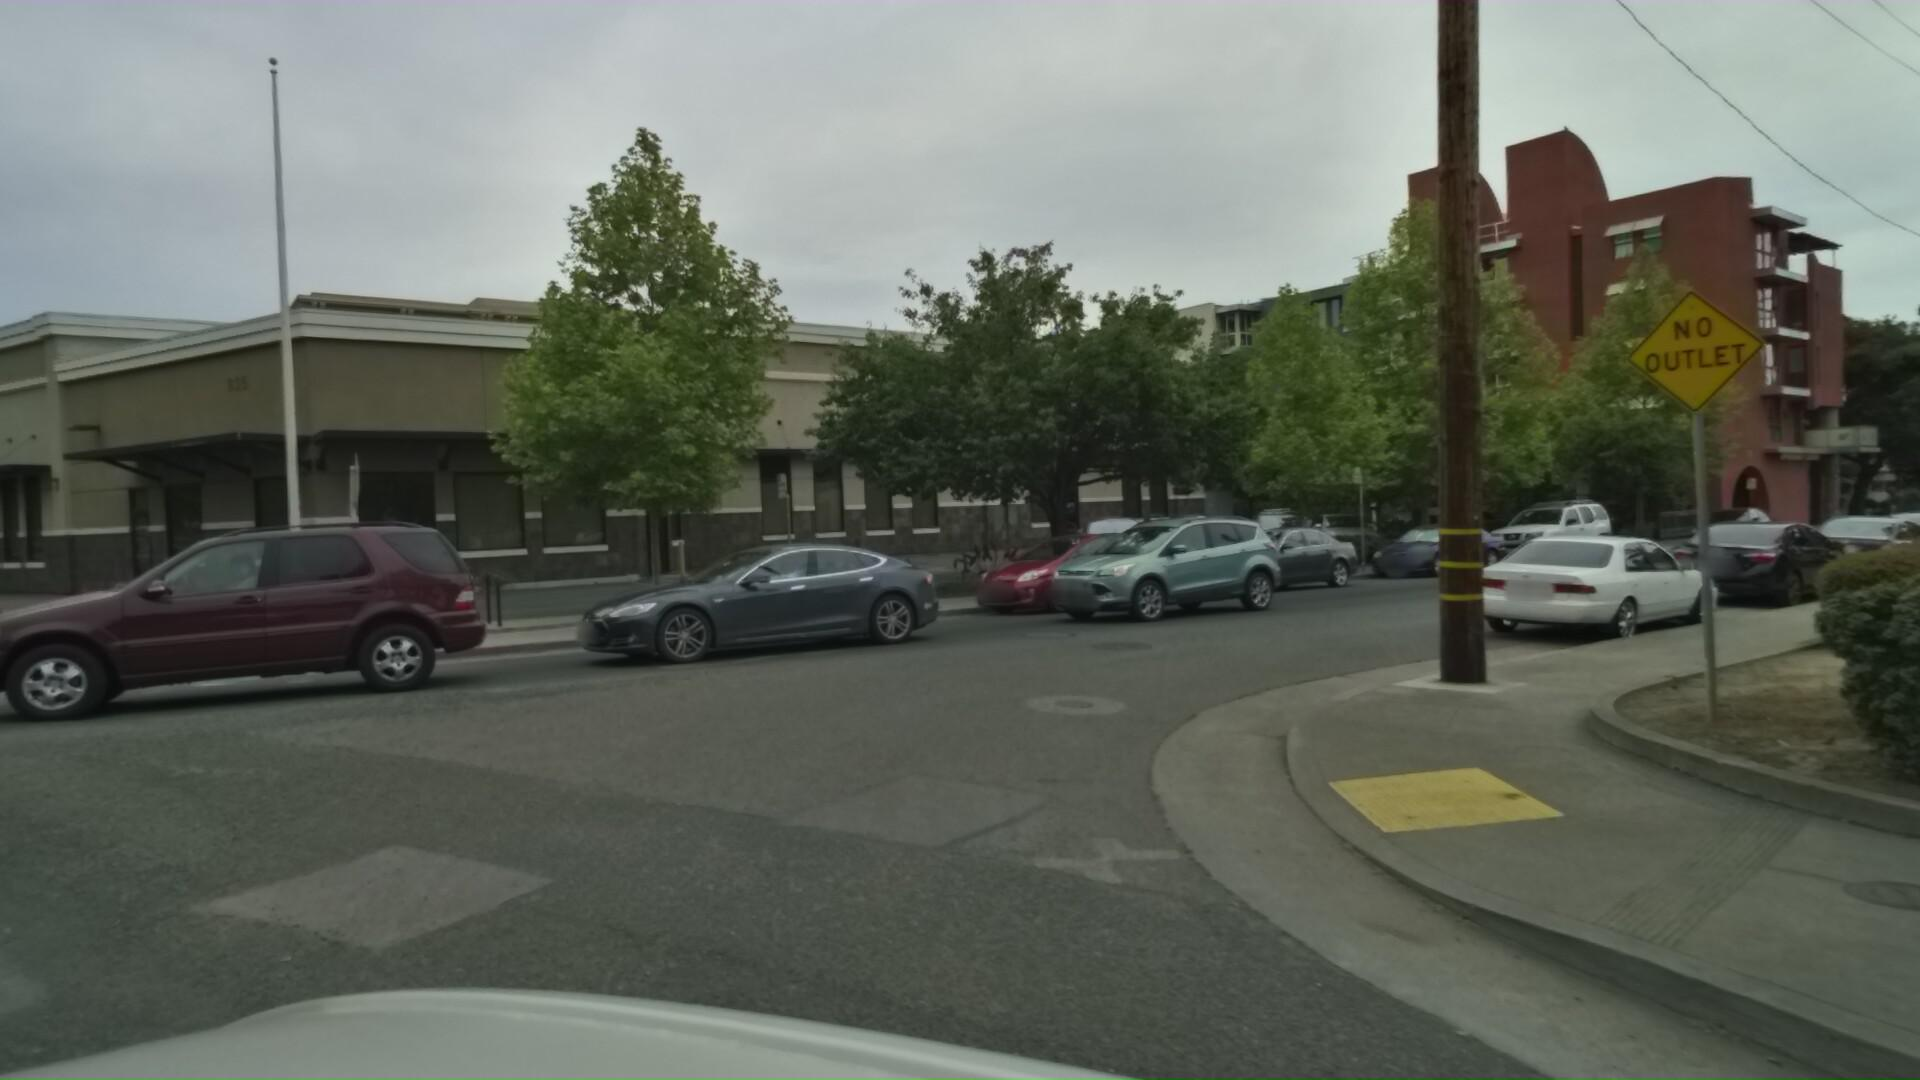car: (571, 524, 989, 694), (1476, 514, 1767, 658), (1040, 502, 1329, 632), (975, 518, 1211, 626), (1687, 505, 1902, 616), (1185, 516, 1386, 603), (1374, 513, 1528, 582), (1494, 492, 1633, 567), (1808, 498, 1920, 589), (1693, 497, 1796, 543), (1095, 506, 1168, 568), (1255, 504, 1335, 558), (1867, 497, 1920, 578), (1315, 501, 1399, 551), (1440, 501, 1522, 537), (1253, 504, 1329, 537)
